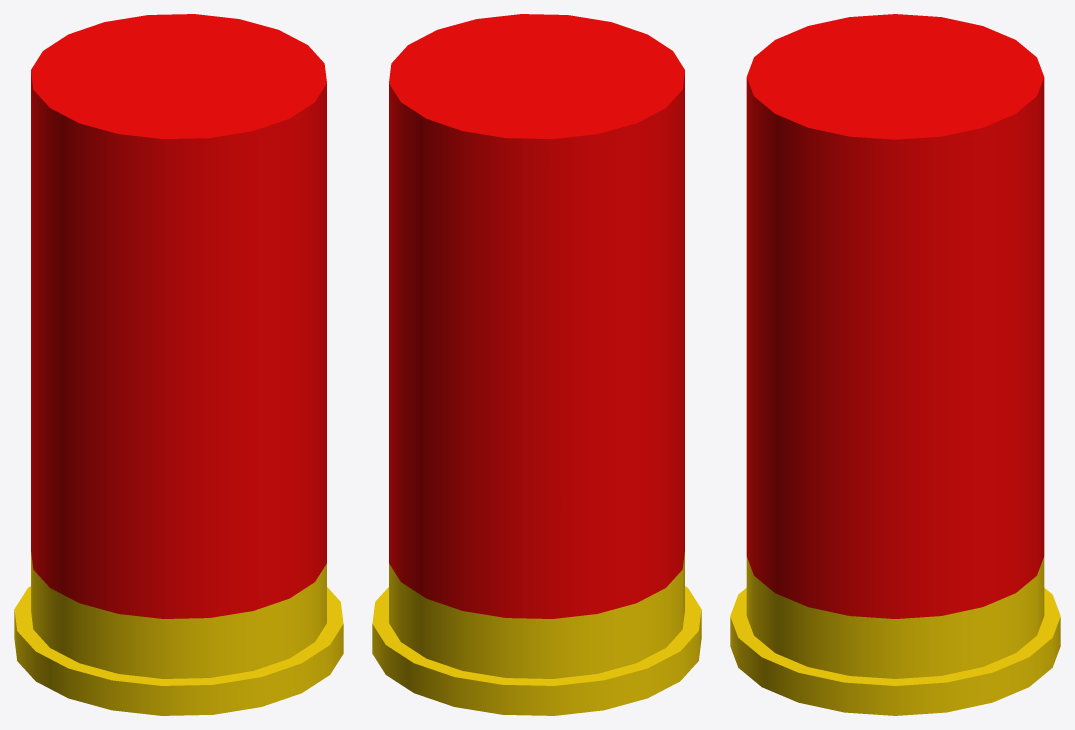
Rendered from Shotgun Shell.fbx.
3 views of the same model, side by side, from view 1: azimuth 30°, elevation 25°; view 2: azimuth 150°, elevation 25°; view 3: azimuth 270°, elevation 25° (orthographic).
Parts seen in each view (by area): view 1: Head, Body, Bottom_Body; view 2: Head, Body, Bottom_Body; view 3: Head, Body, Bottom_Body.
Part boxes in pixels (<box>): Head: <box>31,14,326,618</box>; Body: <box>31,552,326,678</box>; Bottom_Body: <box>14,586,343,715</box>; Head: <box>389,14,684,618</box>; Body: <box>389,552,684,678</box>; Bottom_Body: <box>372,586,701,715</box>; Head: <box>746,14,1044,618</box>; Body: <box>746,557,1044,678</box>; Bottom_Body: <box>730,588,1060,715</box>.
Bounding box in the file's own units: 2.5 × 4.75 × 2.5.
